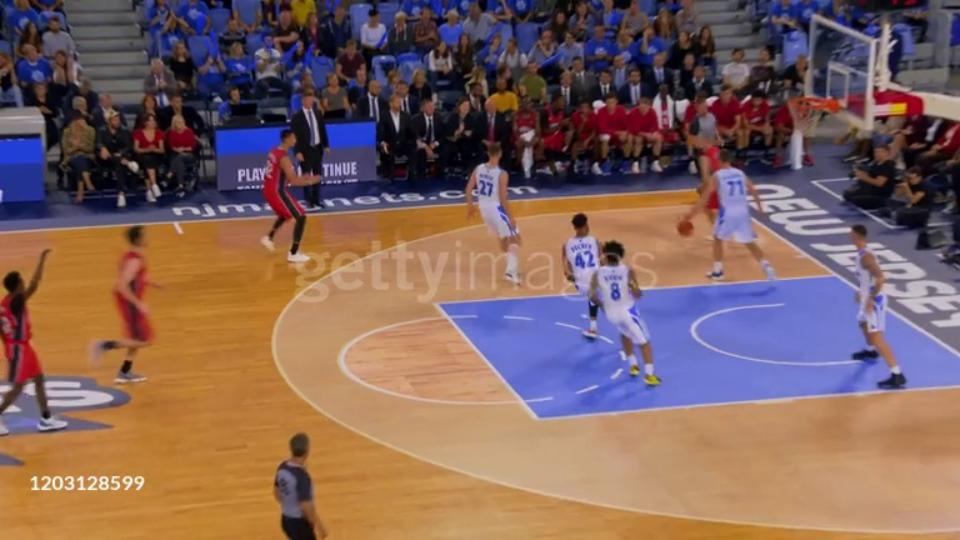hoop: (788, 95, 839, 112)
